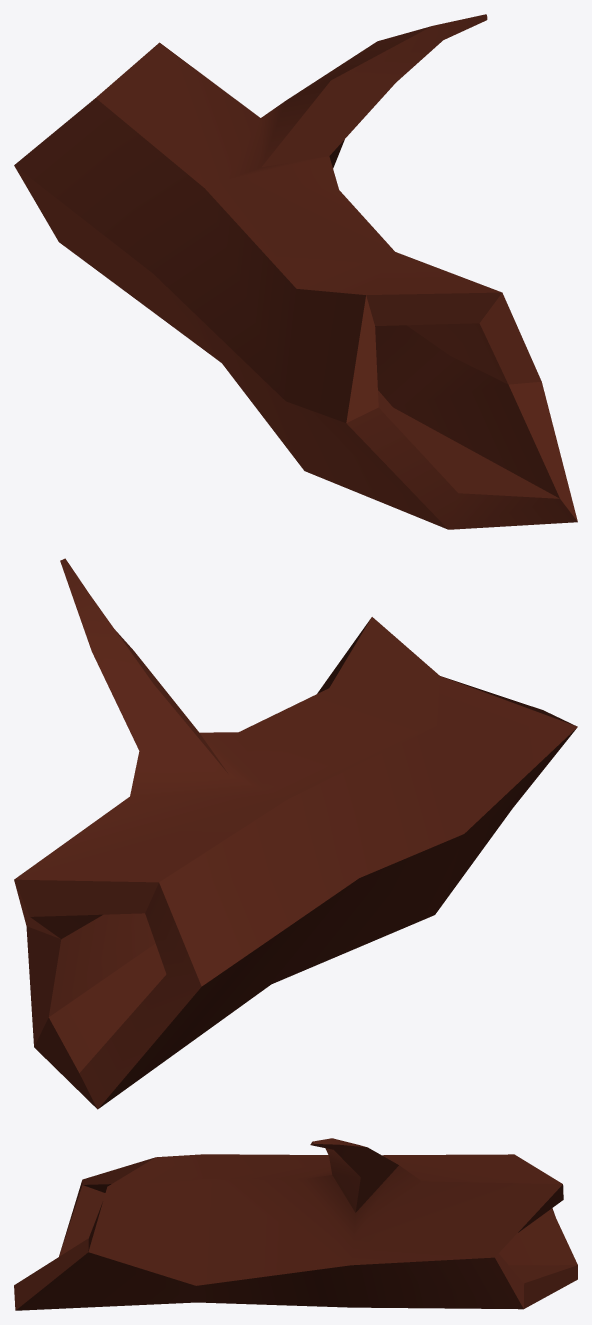
The model's file is Tronco_02.FBX.
3 views of the same model, one above another, from view 1: azimuth 30°, elevation 25°; view 2: azimuth 150°, elevation 25°; view 3: azimuth 270°, elevation 25° (orthographic). The views are drawn at different scales.
Visible parts, largest first — view 1: Cylinder067; view 2: Cylinder067; view 3: Cylinder067.
Part boxes in pixels (left/top/right/bottom): Cylinder067: left=14, top=14, right=577, bottom=529; Cylinder067: left=14, top=558, right=577, bottom=1109; Cylinder067: left=14, top=1138, right=577, bottom=1310.
Bounding box in the file's own units: 9.4 × 9.5 × 21.83.
